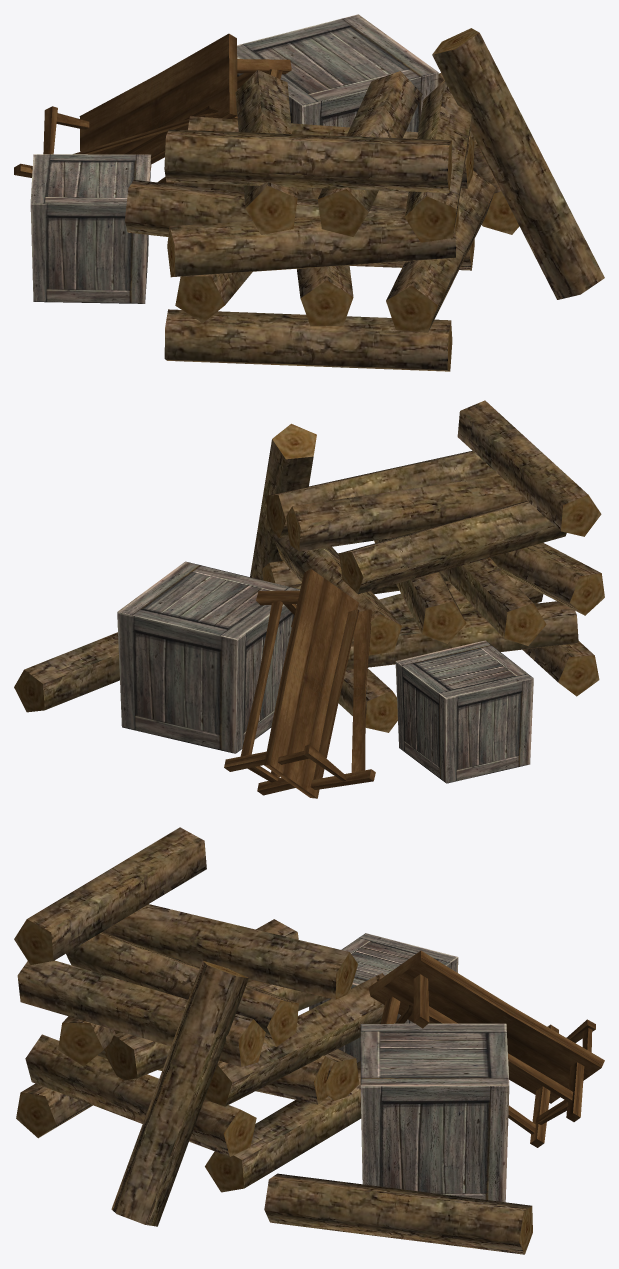
Rendered from prop_group03.fbx.
3 renders of one model, top to bottom at view 1: azimuth 30°, elevation 25°; view 2: azimuth 150°, elevation 25°; view 3: azimuth 270°, elevation 25°, orthographic. The views are drawn at different scales.
Parts seen in each view (by area): view 1: log32, log33, log26, log27, polySurface53, BankBench_seat1, top, log13, log12, log34, top1, log29 (+11 smaller); view 2: polySurface1, polySurface53, BankBench_seat1, log34, log35, log32, top, log29, log14, log17, log12, top1 (+14 smaller); view 3: polySurface1, log33, log17, log35, log32, log29, BankBench_seat1, top, log13, log28, log34, log25 (+10 smaller).
Part boxes in pixels (bbox=[...]): log32: bbox=[164, 129, 451, 192]; log33: bbox=[432, 28, 604, 299]; log26: bbox=[164, 309, 452, 371]; log27: bbox=[167, 210, 455, 277]; polySurface53: bbox=[30, 155, 151, 303]; BankBench_seat1: bbox=[79, 33, 237, 164]; top: bbox=[237, 14, 438, 105]; log13: bbox=[386, 170, 495, 332]; log12: bbox=[124, 180, 407, 262]; log34: bbox=[317, 71, 422, 236]; top1: bbox=[30, 154, 150, 204]; log29: bbox=[404, 80, 471, 242]; polySurface1: bbox=[117, 604, 296, 753]; polySurface53: bbox=[395, 661, 533, 783]; BankBench_seat1: bbox=[264, 569, 358, 798]; log34: bbox=[286, 476, 526, 551]; log35: bbox=[339, 501, 566, 594]; log32: bbox=[457, 400, 601, 536]; top: bbox=[117, 561, 300, 639]; log29: bbox=[266, 451, 499, 538]; log14: bbox=[346, 601, 578, 669]; log17: bbox=[14, 632, 119, 712]; log12: bbox=[440, 557, 546, 645]; top1: bbox=[396, 640, 533, 698]; polySurface1: bbox=[360, 1086, 509, 1202]; log33: bbox=[111, 961, 248, 1226]; log17: bbox=[264, 1173, 532, 1254]; log35: bbox=[103, 904, 357, 999]; log32: bbox=[14, 827, 206, 964]; log29: bbox=[17, 960, 265, 1066]; BankBench_seat1: bbox=[368, 950, 604, 1103]; top: bbox=[360, 1023, 509, 1086]; log13: bbox=[25, 1034, 256, 1156]; log28: bbox=[204, 973, 384, 1106]; log34: bbox=[66, 931, 298, 1046]; log25: bbox=[205, 1061, 361, 1192].
Size of the model in its own units: 1071 by 524 by 1129.
1 material, 1 textured.
